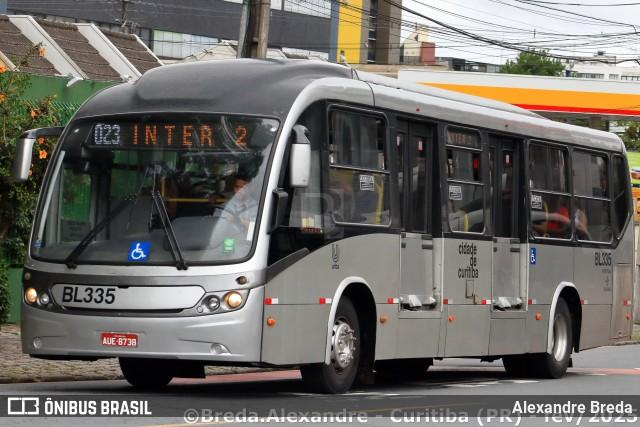INTER2: (129, 120, 251, 149)
